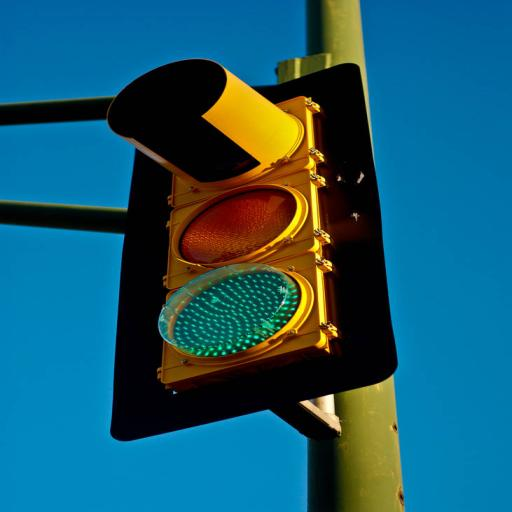traffic light: (106, 58, 397, 441)
